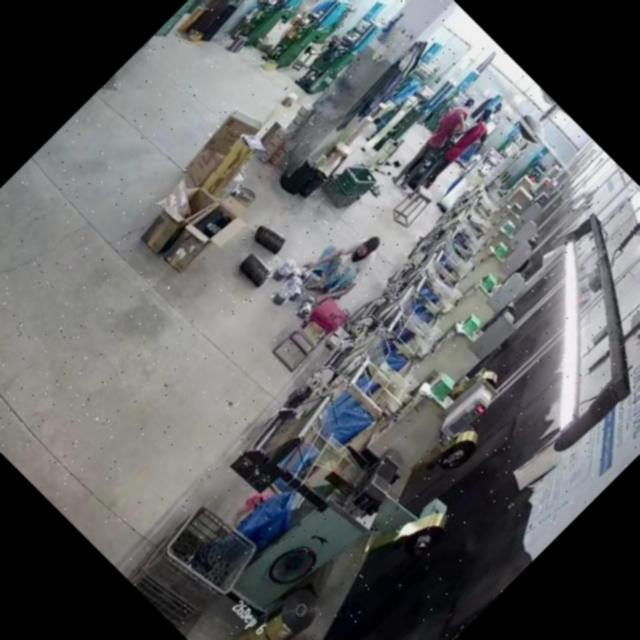person: (383, 92, 488, 196), (292, 216, 393, 316), (402, 105, 502, 205)
